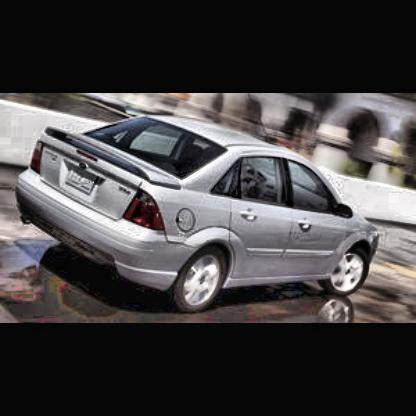Ford Focus Sedan 2007: (16, 114, 384, 310)
